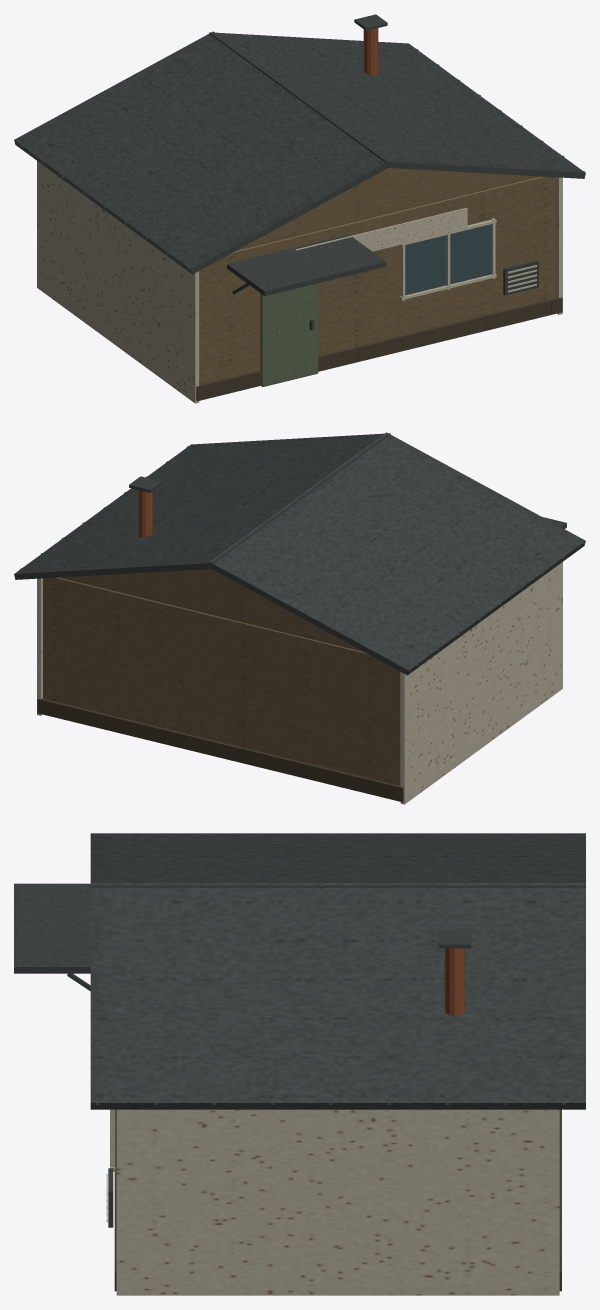
Rendered from YardOffice.fbx.
3 views of the same model, one above another, from view 1: azimuth 30°, elevation 25°; view 2: azimuth 150°, elevation 25°; view 3: azimuth 270°, elevation 25° (orthographic). The views are drawn at different scales.
Visible parts, largest first — view 1: YardOffice; view 2: YardOffice; view 3: YardOffice.
Boxes of the visible parts, <box> form: YardOffice: <box>14,14,585,403</box>; YardOffice: <box>14,432,585,804</box>; YardOffice: <box>14,833,585,1295</box>.
Bounding box in the file's own units: 881 × 469 × 785.
1 material, 1 textured.
